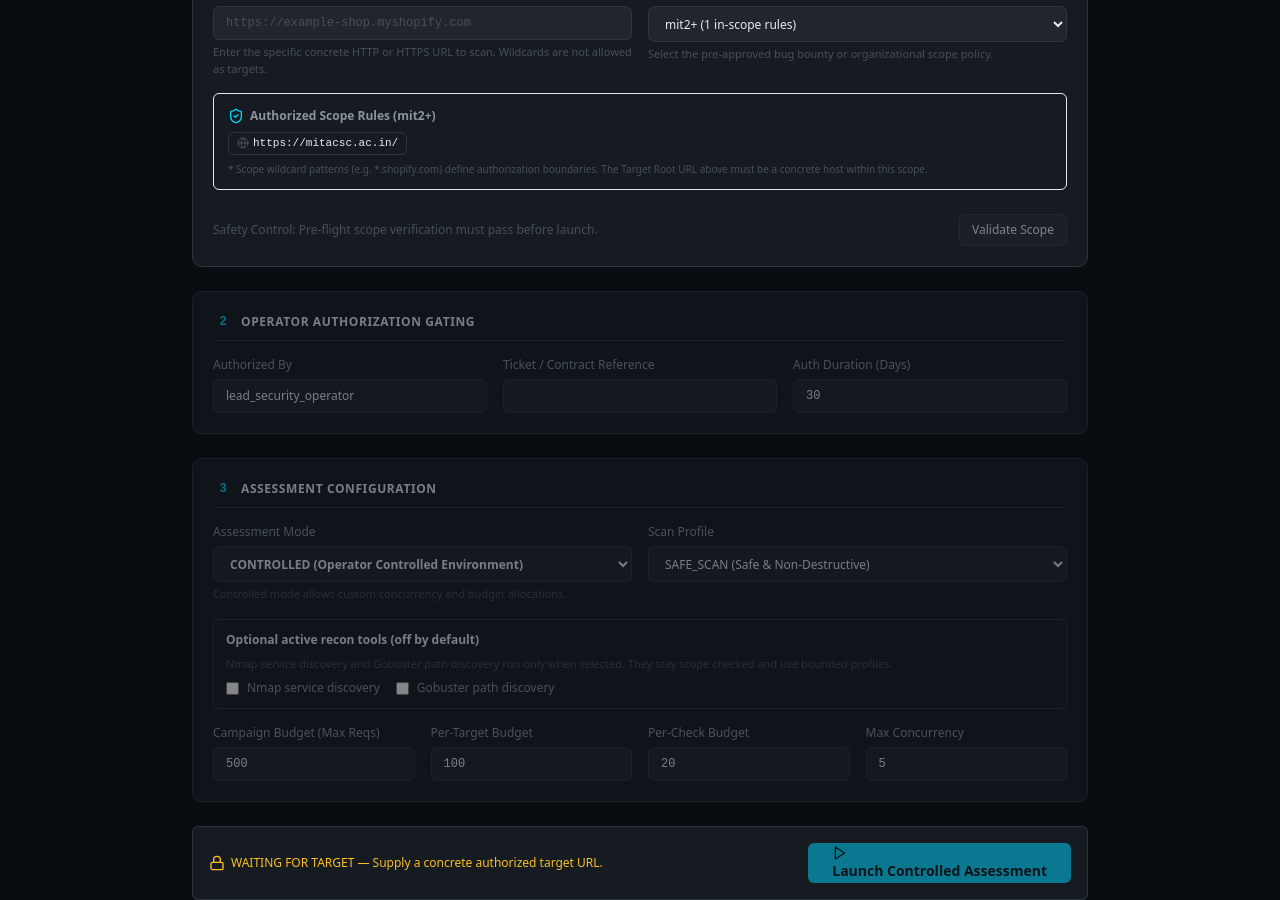
Test: NewAssessment Crash Investigation & Resilience Suite › Assessment Configuration Control Variations › handles empty or zero numeric inputs gracefully without crashing
This screenshot has width=1280, height=900.
(page scrolled)
# Empty input
Clear the number field labelled "Campaign Budget (Max Reqs)" at (314, 764), box x1=213 y1=747 x2=414 y2=781
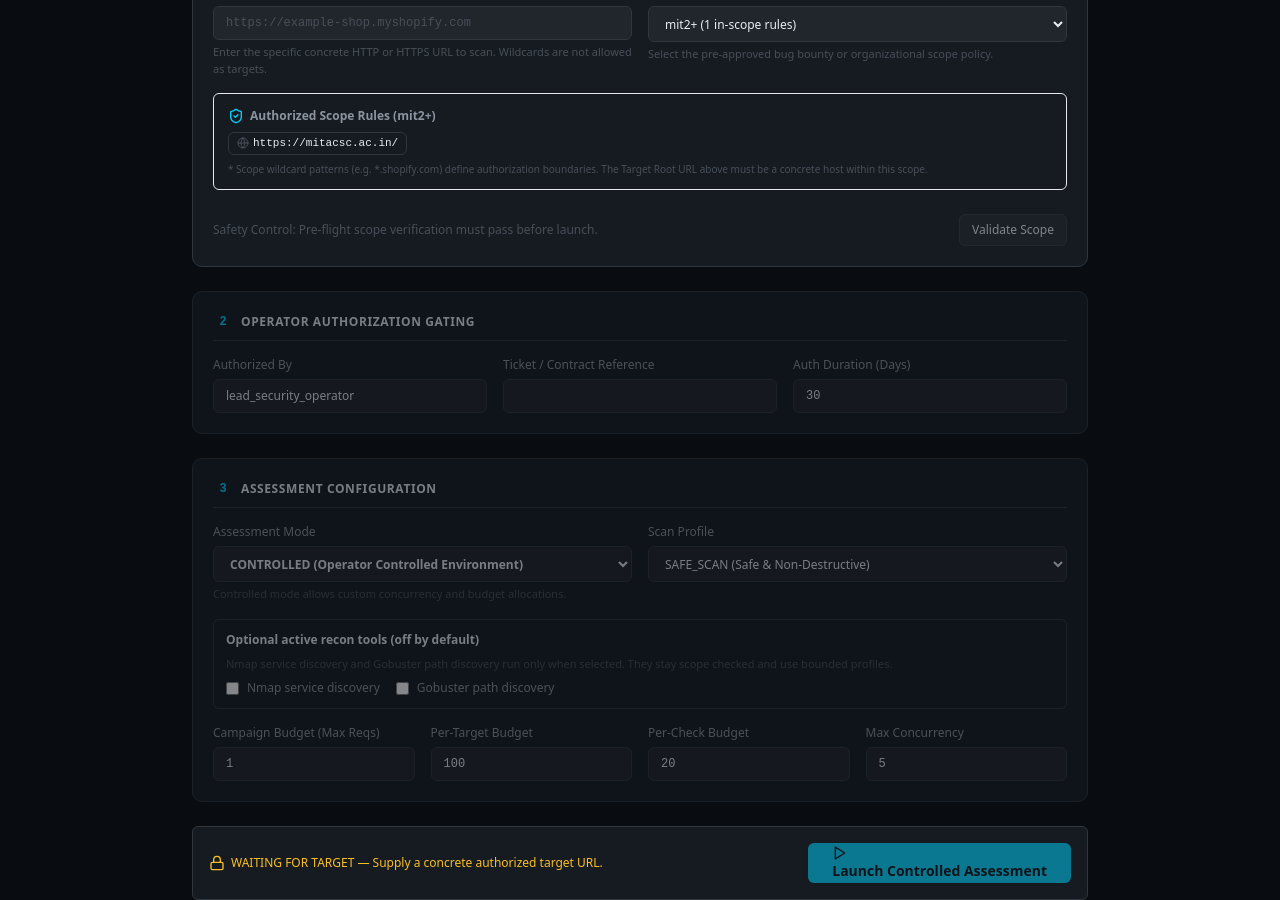
Expected: the number field labelled "Campaign Budget (Max Reqs)" holds "1", x1=213 y1=747 x2=414 y2=781
# Over-max input
Replace the text in the number field labelled "Max Concurrency" with "50" at (966, 764), box x1=866 y1=747 x2=1067 y2=781
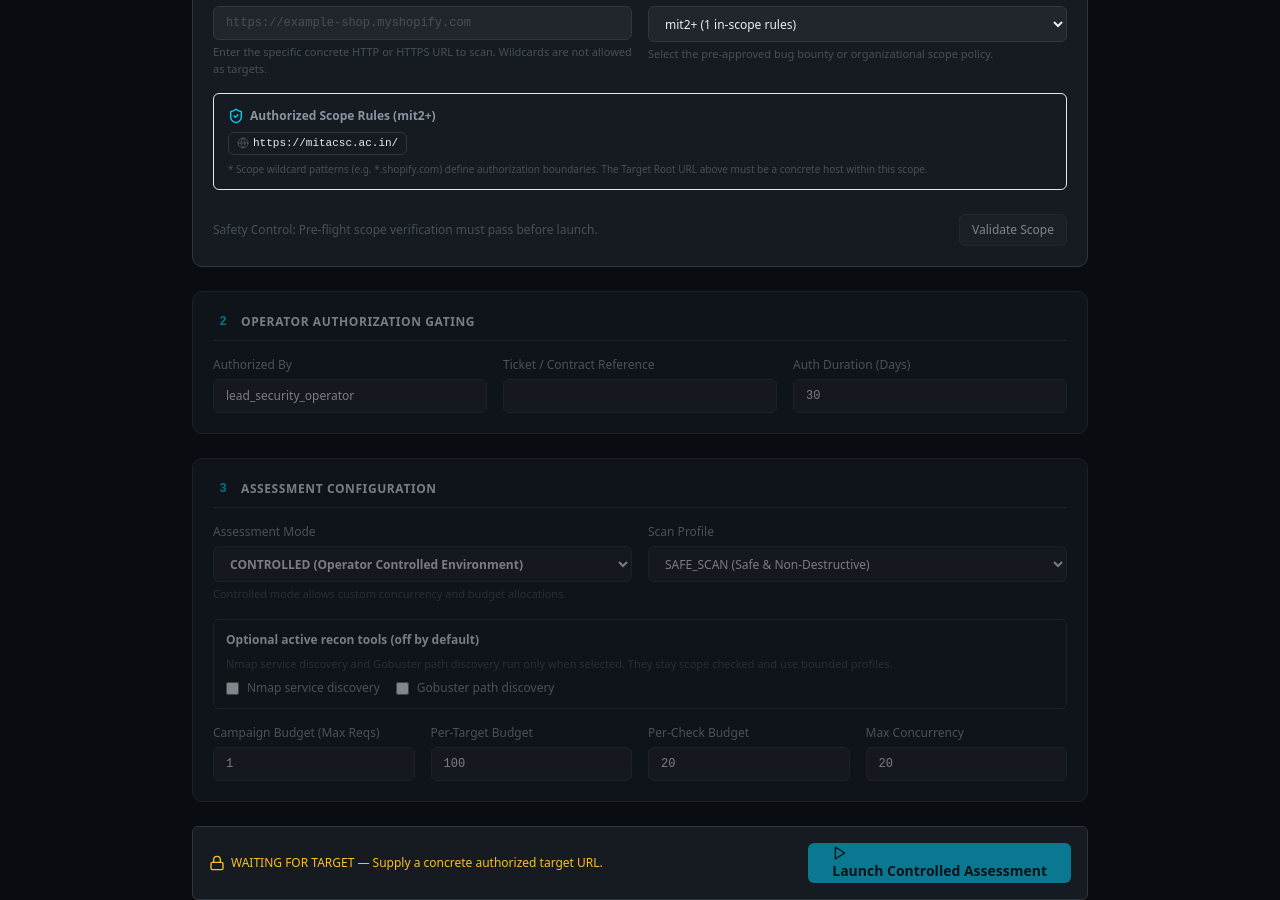
Expected: the number field labelled "Max Concurrency" holds "20", x1=866 y1=747 x2=1067 y2=781
